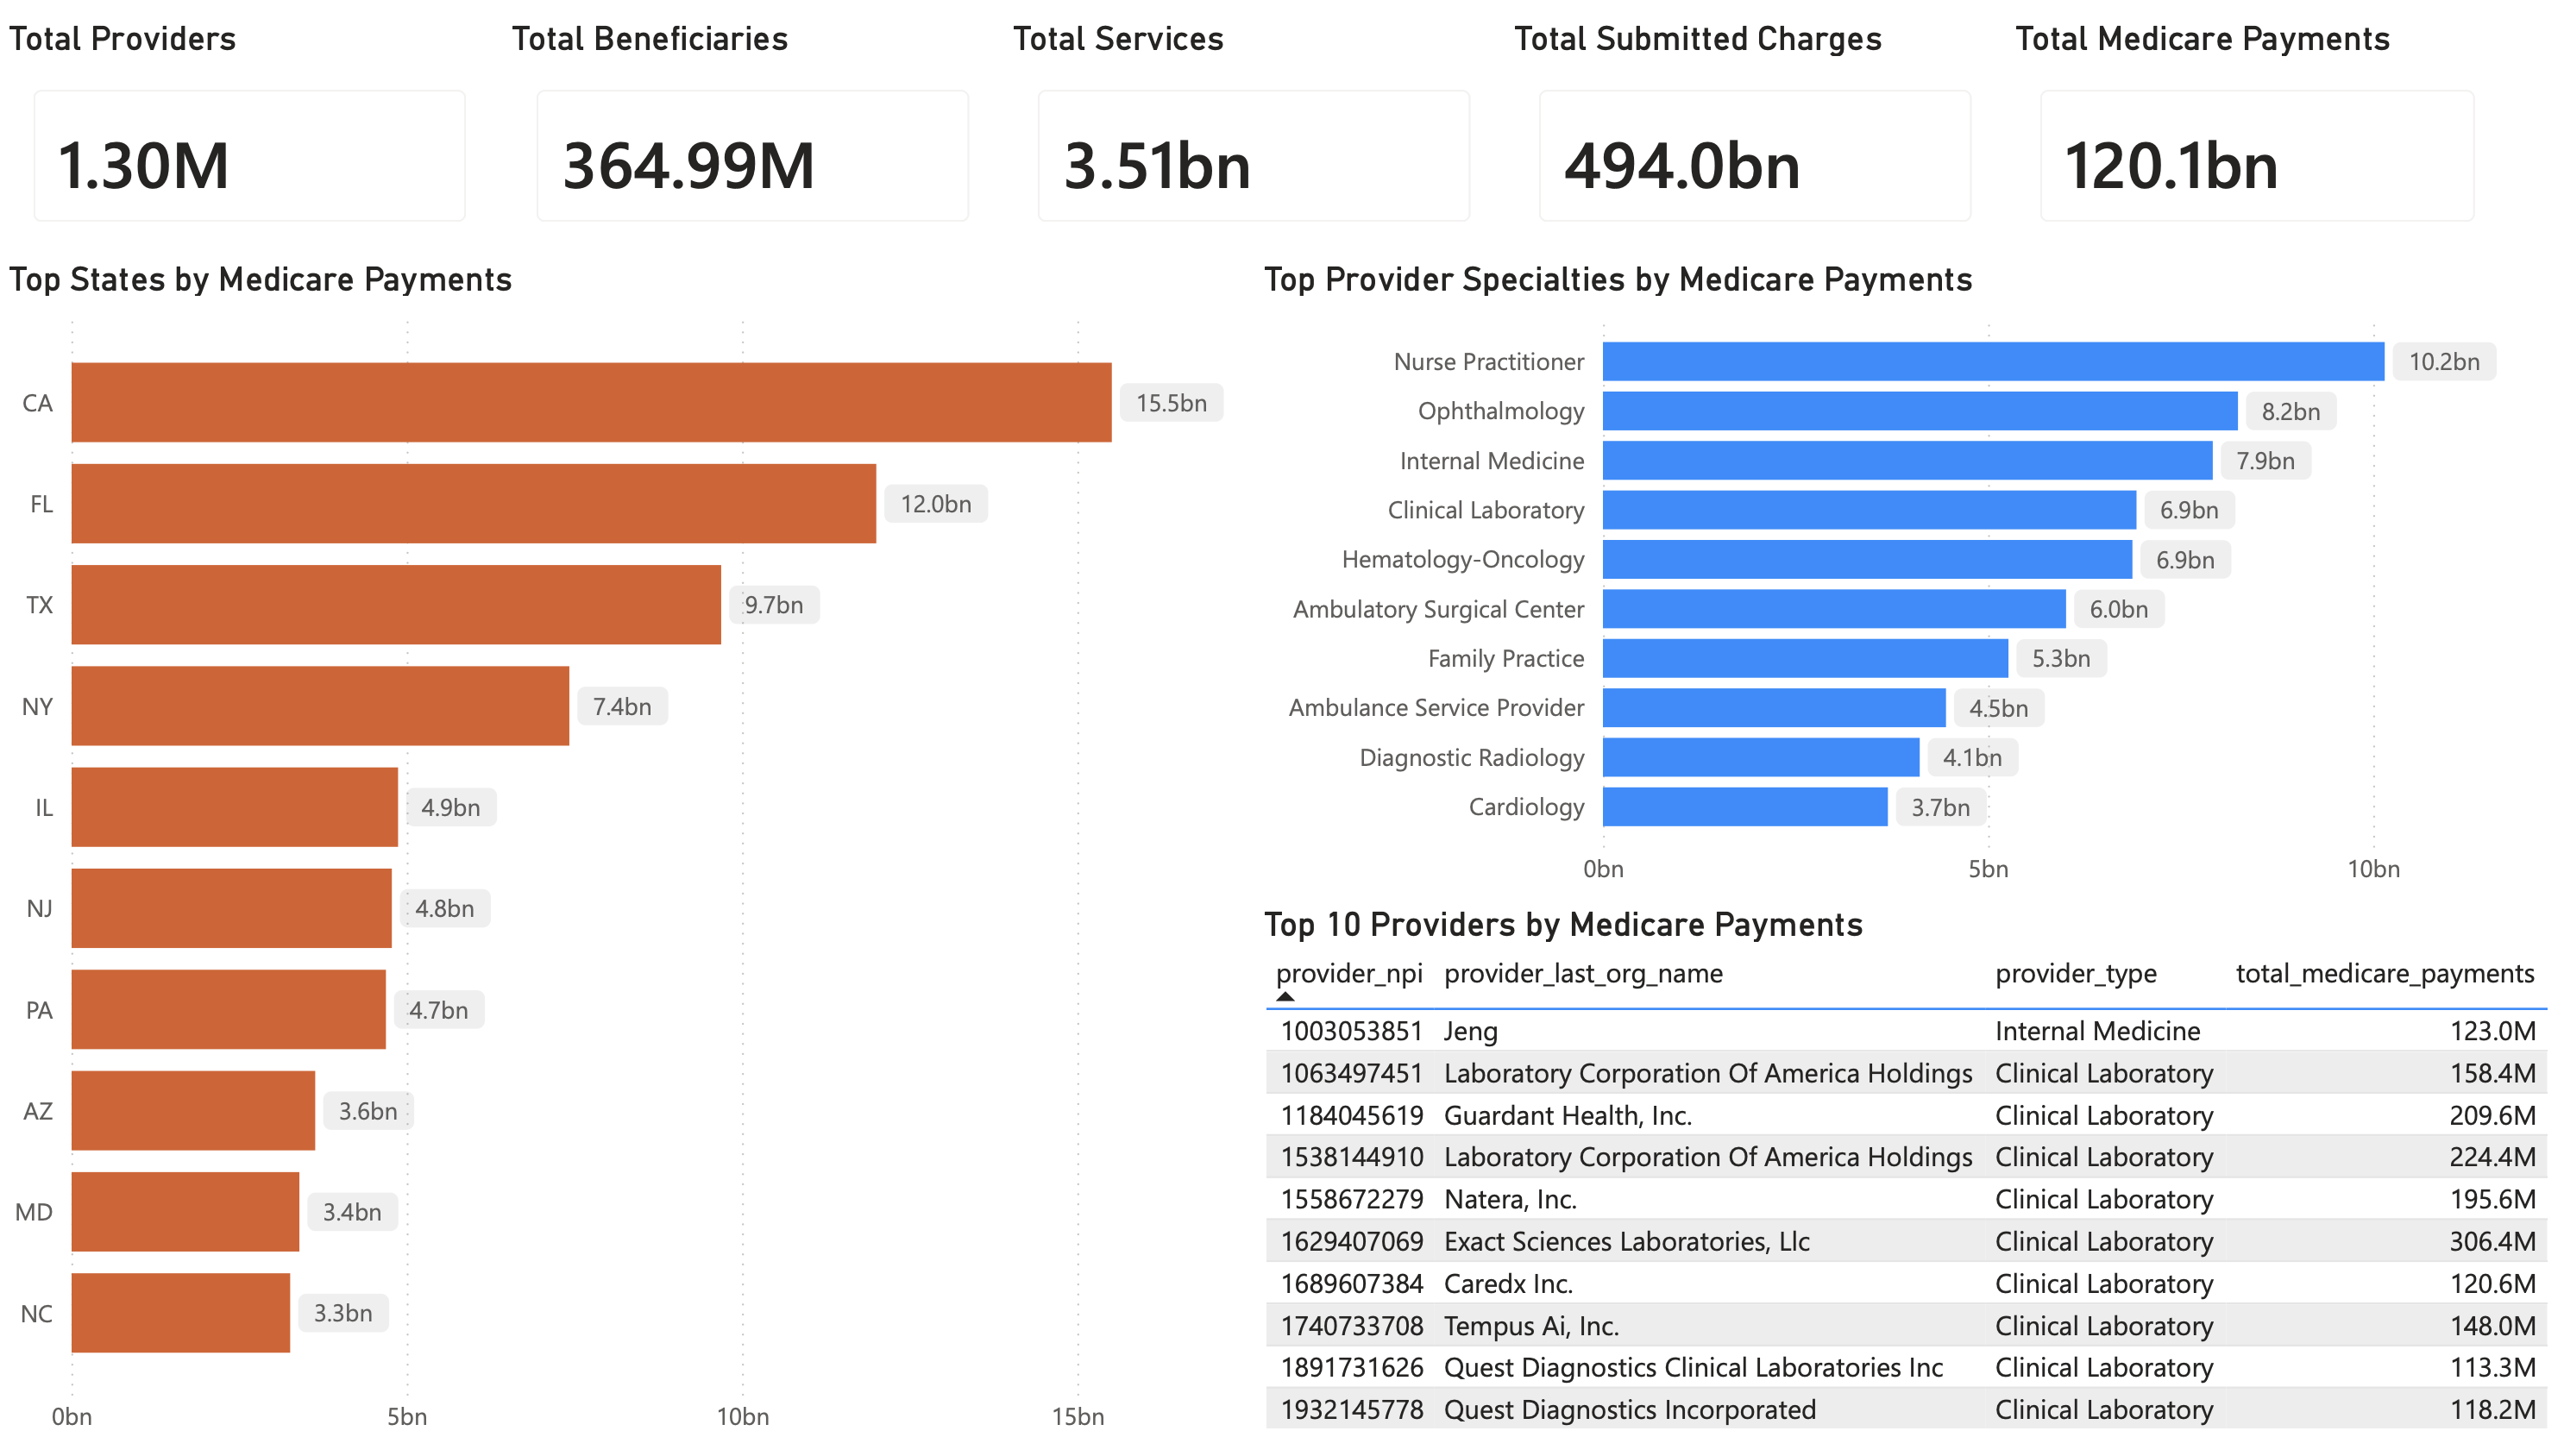

The page's visual inventory and layout, read from the dashboard file:
{"tool":"powerbi","page":{"name":"Executive Overview","canvas":[1280,720],"ordinal":0},"visuals":[{"type":"cardVisual","title":"Total Providers","fields":{"Data":["Sum(executive_kpis.total_providers)"]},"box":[0,4.1,250,119.4],"z":0},{"type":"cardVisual","title":"Total Services","fields":{"Data":["Sum(executive_kpis.total_services)"]},"box":[501.3,4.1,250,119.4],"z":1},{"type":"cardVisual","title":"Total Submitted Charges","fields":{"Data":["Sum(executive_kpis.total_submitted_charges)"]},"box":[751.3,4.1,250,119.4],"z":2},{"type":"cardVisual","title":"Total Medicare Payments","fields":{"Data":["Sum(executive_kpis.total_medicare_payments)"]},"box":[1001.4,4.1,251.3,119.4],"z":3},{"type":"cardVisual","title":"Total Beneficiaries","fields":{"Data":["Sum(executive_kpis.total_beneficiaries)"]},"box":[251.3,4.1,250,119.4],"z":4},{"type":"clusteredBarChart","title":"Top States by Medicare Payments","fields":{"Category":["state_medicare_payments.state_abbreviation"],"Y":["Sum(state_medicare_payments.medicare_payments)"]},"box":[0,123.7,626,596],"z":5},{"type":"clusteredBarChart","title":"Top Provider Specialties by Medicare Payments","fields":{"Category":["specialty_performance.provider_type"],"Y":["Sum(specialty_performance.total_payments)"]},"box":[626,123.7,654,322.7],"z":6},{"type":"tableEx","title":"Top 10 Providers by Medicare Payments","fields":{"Values":["top_provider_payments_top1000 1.provider_npi","top_provider_payments_top1000 1.provider_last_org_name","top_provider_payments_top1000 1.provider_type","top_provider_payments_top1000 1.total_medicare_payments"]},"box":[626,446.3,654,273.4],"z":7}]}

Visuals, with their boxes in screenshot pixels (x1, y1, x2, y2), scaled from the page's 1280x720 canvas onto the 2564x1456 screenshot:
"Total Providers" cardVisual: <region>0, 9, 500, 250</region>
"Total Services" cardVisual: <region>1004, 9, 1505, 250</region>
"Total Submitted Charges" cardVisual: <region>1505, 9, 2006, 250</region>
"Total Medicare Payments" cardVisual: <region>2006, 9, 2510, 250</region>
"Total Beneficiaries" cardVisual: <region>503, 9, 1004, 250</region>
"Top States by Medicare Payments" clusteredBarChart: <region>0, 250, 1254, 1455</region>
"Top Provider Specialties by Medicare Payments" clusteredBarChart: <region>1254, 250, 2563, 903</region>
"Top 10 Providers by Medicare Payments" tableEx: <region>1254, 902, 2563, 1455</region>
